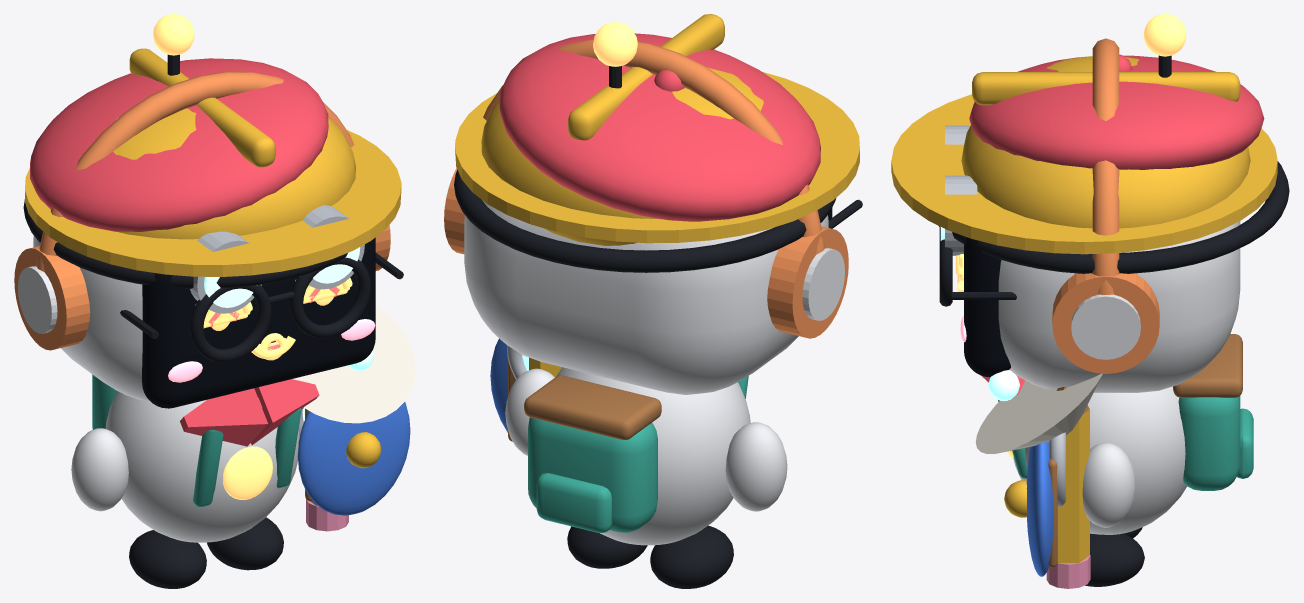
The model's file is robot.glb.
The picture shows the model from 3 angles, left to right: view 1: azimuth 30°, elevation 25°; view 2: azimuth 150°, elevation 25°; view 3: azimuth 270°, elevation 25°; orthographic projection. The views are drawn at different scales.
Visible parts, largest first — view 1: Beret, HatBrim, Screen, Torso, HatDome, ShieldFace, Dish, HeadShell, PhonesBand, PhonesL, ArmLMesh, HatRidge (+20 smaller); view 2: Beret, HeadShell, HatBrim, Torso, Pack, GoggleStrap, HatDome, PackFlap, PhonesBand, PhonesL, ArmLMesh, HatRidge (+8 smaller); view 3: Beret, HeadShell, HatBrim, HatDome, Torso, GoggleStrap, Dish, PhonesR, Pack, PhonesBand, HatRidge, Screen (+16 smaller).
Boxes of the visible parts, left/top/right/bottom form: Beret: left=30, top=58, right=328, bottom=231; HatBrim: left=25, top=130, right=401, bottom=276; Screen: left=142, top=237, right=375, bottom=408; Torso: left=105, top=391, right=299, bottom=542; HatDome: left=113, top=108, right=355, bottom=239; ShieldFace: left=297, top=402, right=410, bottom=515; Dish: left=293, top=306, right=415, bottom=423; HeadShell: left=33, top=235, right=149, bottom=400; PhonesBand: left=36, top=72, right=354, bottom=271; PhonesL: left=14, top=246, right=90, bottom=350; ArmLMesh: left=71, top=428, right=128, bottom=511; HatRidge: left=129, top=48, right=275, bottom=167; Beret: left=499, top=33, right=820, bottom=221; HeadShell: left=464, top=200, right=828, bottom=394; HatBrim: left=455, top=71, right=859, bottom=243; Torso: left=556, top=367, right=750, bottom=545; Pack: left=528, top=417, right=657, bottom=532; GoggleStrap: left=454, top=170, right=836, bottom=272; HatDome: left=481, top=67, right=763, bottom=245; PackFlap: left=524, top=375, right=661, bottom=440; PhonesBand: left=483, top=39, right=824, bottom=254; PhonesL: left=767, top=226, right=848, bottom=338; ArmLMesh: left=725, top=422, right=787, bottom=511; HatRidge: left=568, top=14, right=724, bottom=140; Beret: left=969, top=55, right=1264, bottom=169; HeadShell: left=998, top=221, right=1240, bottom=392; HatBrim: left=891, top=94, right=1277, bottom=254; HatDome: left=961, top=56, right=1250, bottom=228; Torso: left=1013, top=386, right=1186, bottom=534; GoggleStrap: left=939, top=161, right=1289, bottom=273; Dish: left=975, top=373, right=1102, bottom=453; PhonesR: left=1052, top=273, right=1159, bottom=373; Pack: left=1178, top=396, right=1240, bottom=490; PhonesBand: left=1092, top=38, right=1119, bottom=294; HatRidge: left=972, top=72, right=1240, bottom=105; Screen: left=964, top=237, right=1010, bottom=377.
Size of the model in its own units: 0.7585 by 1.13 by 0.742.
